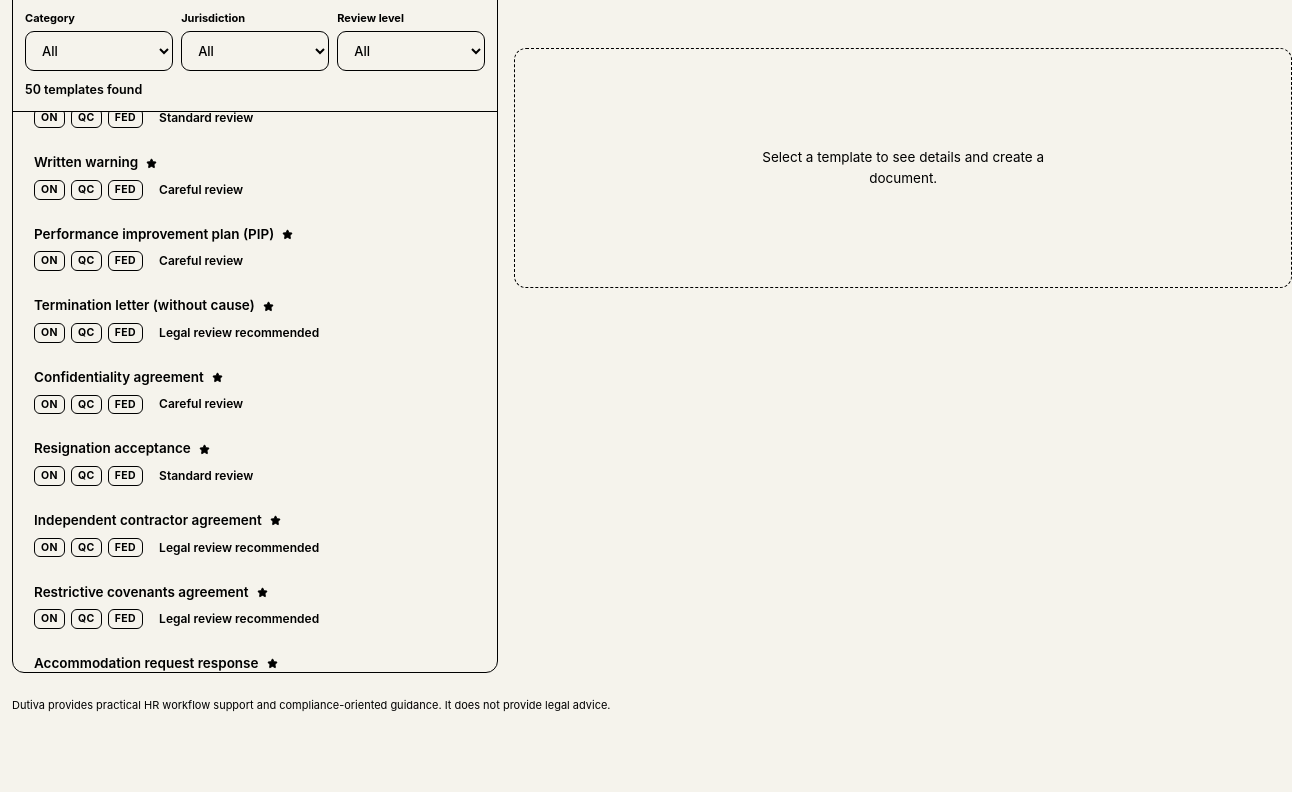
Test: StudioScreen › updates the detail panel when a template is selected
(page scrolled)
Step 1. Click the option "Confidentiality agreement ON QC FED Careful review" → (119,377), box [21,358,489,427]
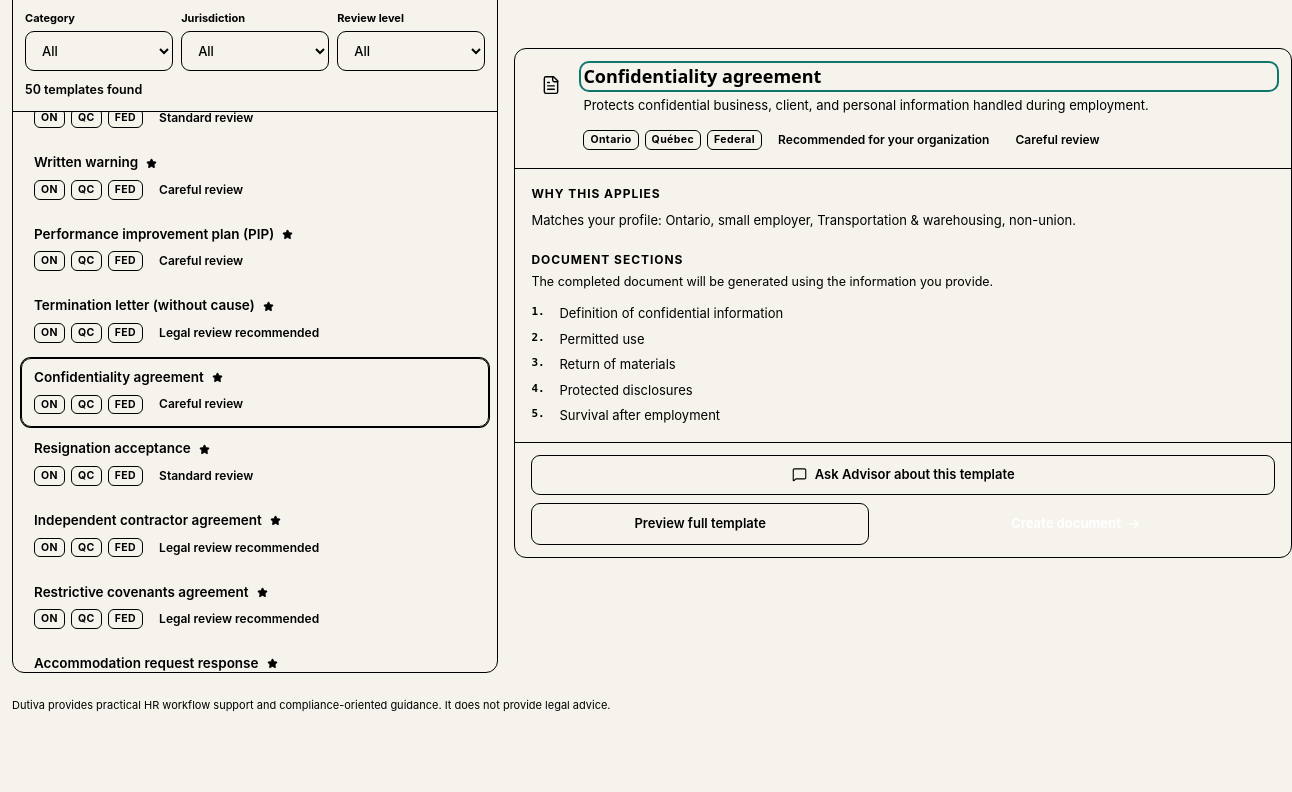
Expected: the heading "Confidentiality agreement" is shown, [583,64,821,88]
